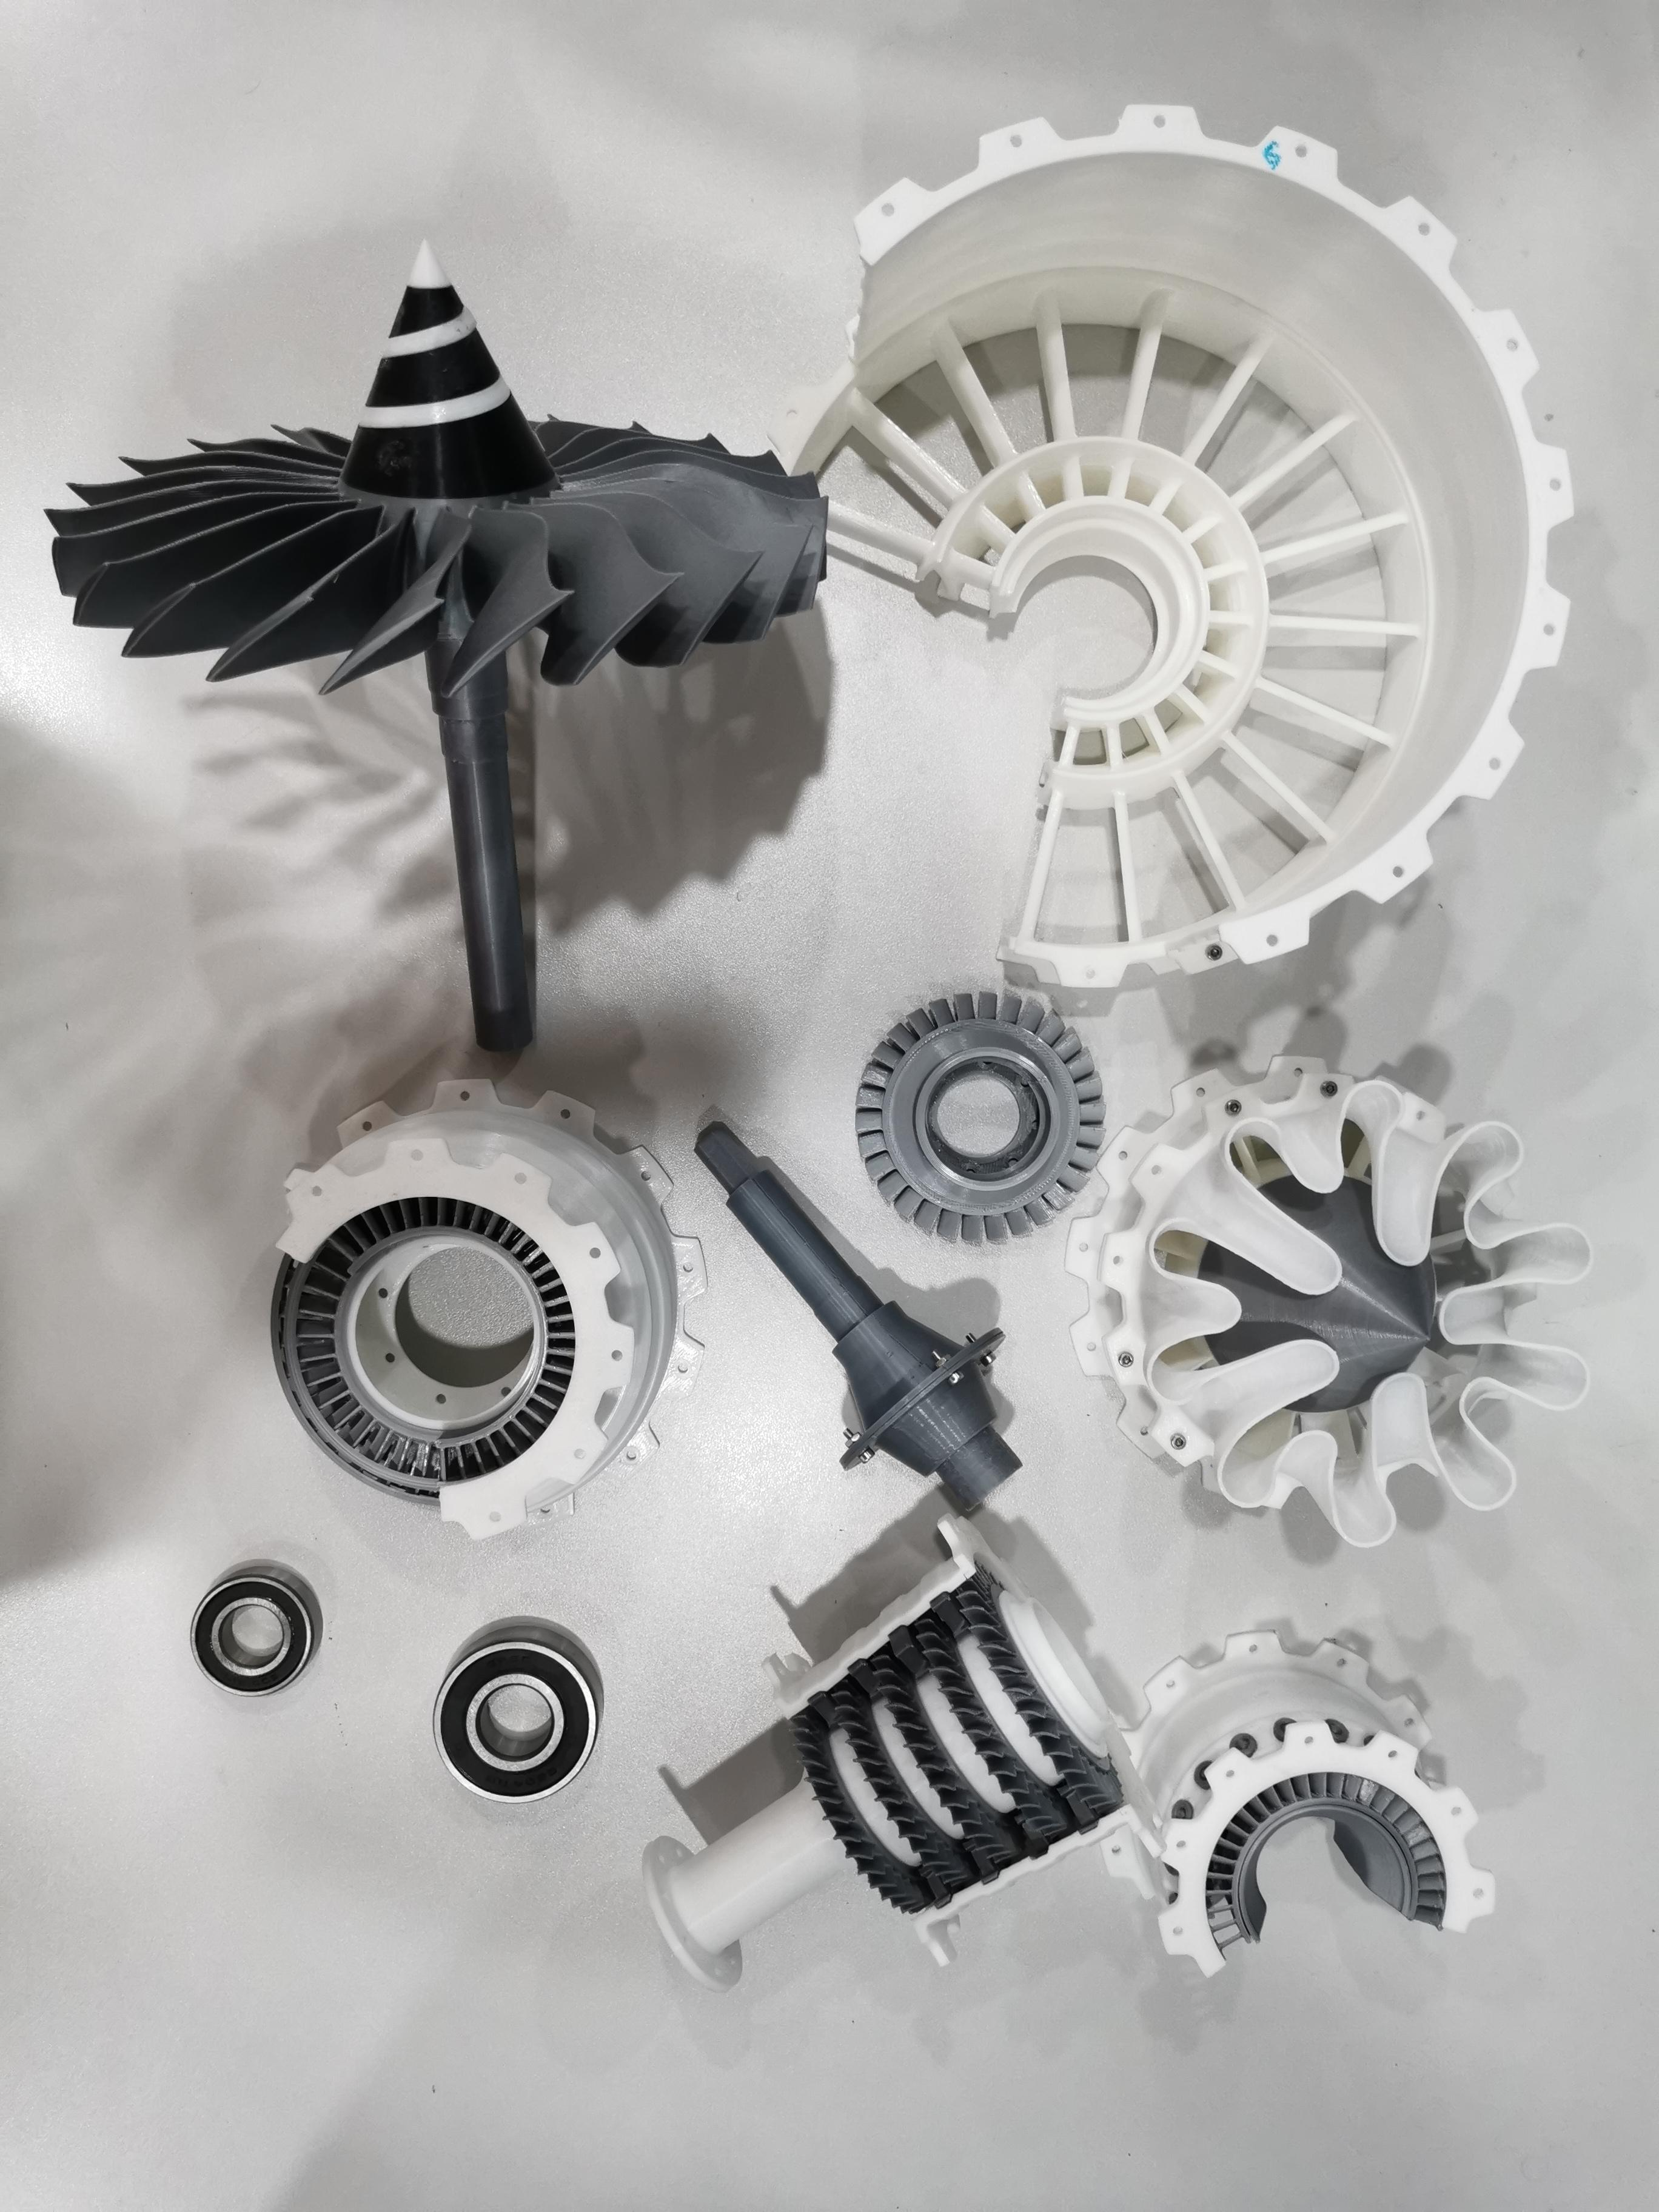Bearing-6003: (178, 1547, 336, 1712)
Bearing-6204: (423, 1627, 617, 1810)
Combustion Section: (1091, 1615, 1509, 1982)
Fan Casing and Support: (772, 87, 1582, 984)
Fan and Low Pressure Shaft: (23, 223, 835, 1052)
HPT Section: (840, 981, 1115, 1259)
High Pressure Spool: (634, 1508, 1168, 2001)
LPT Section: (261, 1064, 720, 1543)
Low Pressure Spool: (678, 1104, 1035, 1526)
Nozzle Section: (1060, 1043, 1607, 1555)
